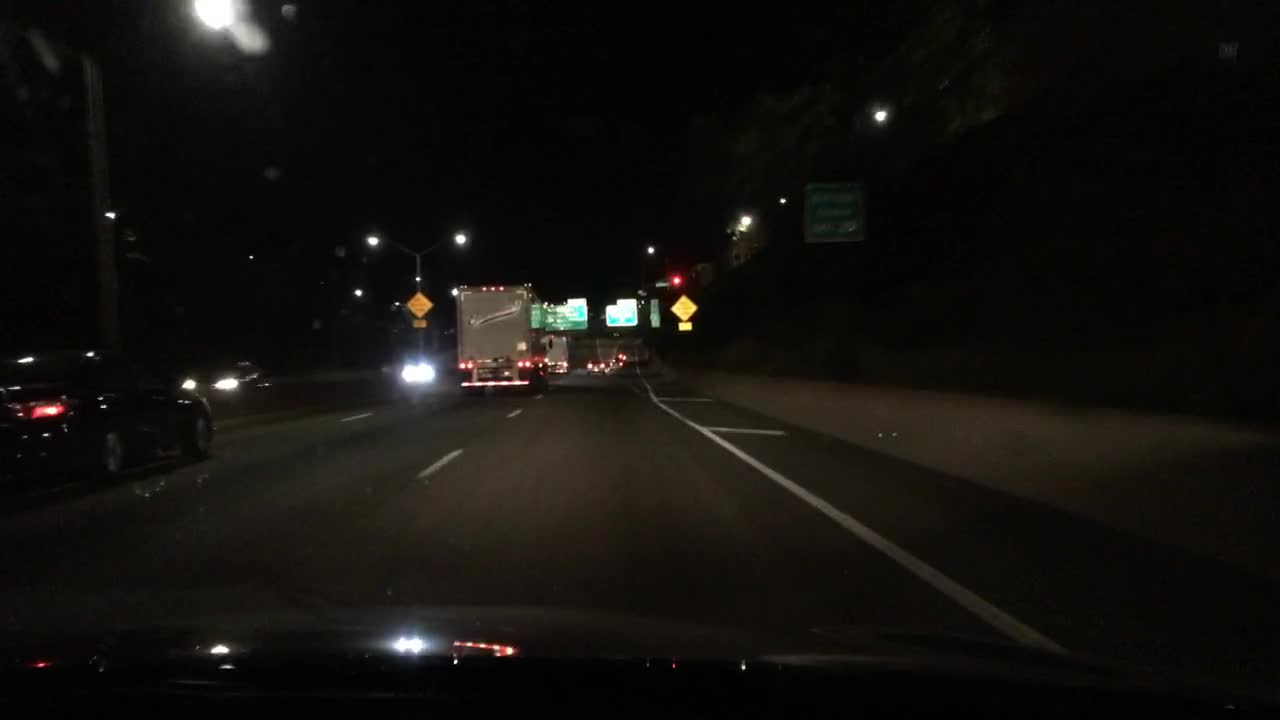car: (0, 349, 213, 486), (178, 358, 276, 413), (396, 356, 440, 383), (585, 358, 605, 375), (612, 358, 624, 366), (605, 361, 613, 372)
traffic light: (670, 273, 683, 288)
traffic sign: (806, 182, 869, 240), (544, 297, 587, 330), (605, 297, 637, 328), (406, 292, 433, 317), (669, 297, 697, 320), (648, 298, 661, 326), (411, 319, 427, 329), (679, 323, 692, 331)
truck: (455, 286, 548, 397), (545, 337, 570, 373)
